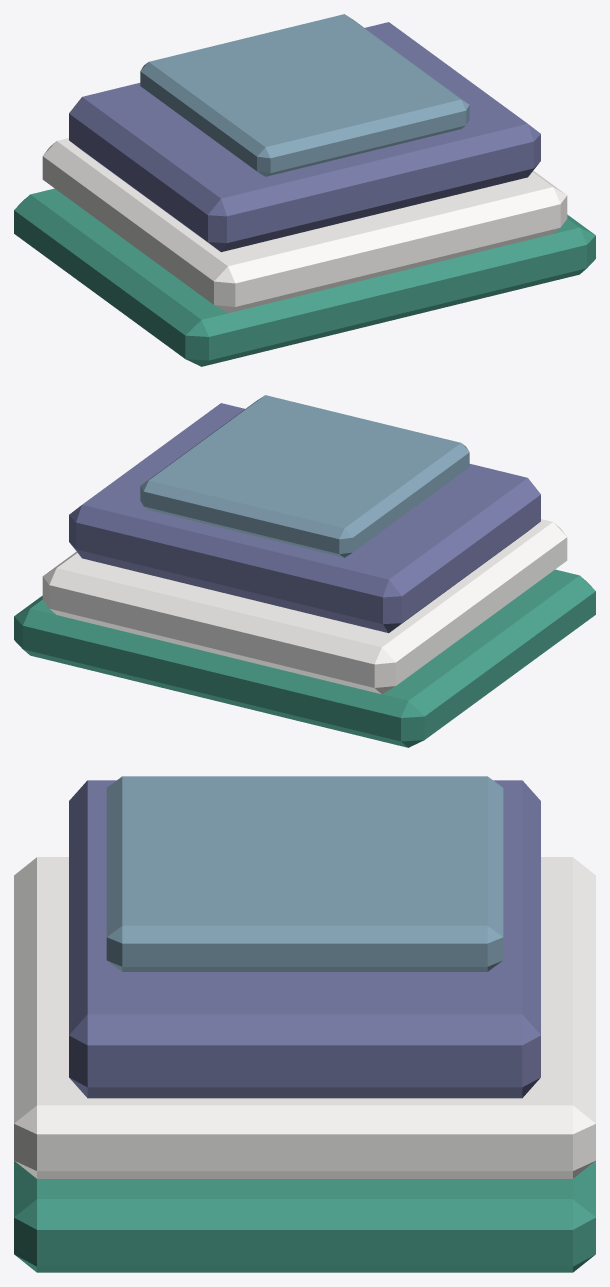
File: Towels_3.fbx
3 views of the same model, one above another, from view 1: azimuth 30°, elevation 25°; view 2: azimuth 150°, elevation 25°; view 3: azimuth 270°, elevation 25° (orthographic). The views are drawn at different scales.
Parts seen in each view (by area): view 1: Towels_3; view 2: Towels_3; view 3: Towels_3.
Part boxes in pixels (x1,y1,x2,y2): Towels_3: (14, 14, 595, 366); Towels_3: (14, 395, 595, 747); Towels_3: (14, 776, 595, 1272).
Bounding box in the file's own units: 66.33 × 52.05 × 27.38.
